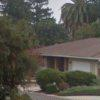Tree: (5, 2, 59, 46)
